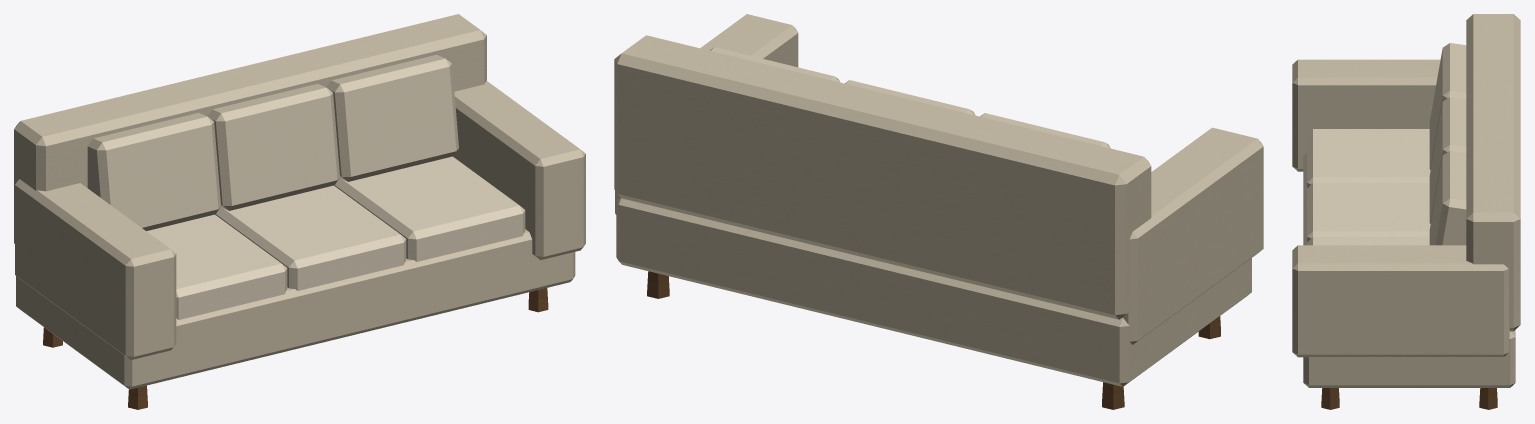
Rendered from sofa.glb.
3 views of the same model, side by side, from view 1: azimuth 30°, elevation 25°; view 2: azimuth 150°, elevation 25°; view 3: azimuth 270°, elevation 25° (orthographic). The views are drawn at different scales.
Visible parts, largest first — view 1: home_sofa; view 2: home_sofa; view 3: home_sofa.
Part boxes in pixels (x1,y1,x2,y2): home_sofa: [14, 14, 585, 409]; home_sofa: [614, 14, 1263, 409]; home_sofa: [1292, 14, 1520, 409].
Size of the model in its own units: 2 by 0.9 by 0.925.
Materials: 1 (1 with a texture image).
